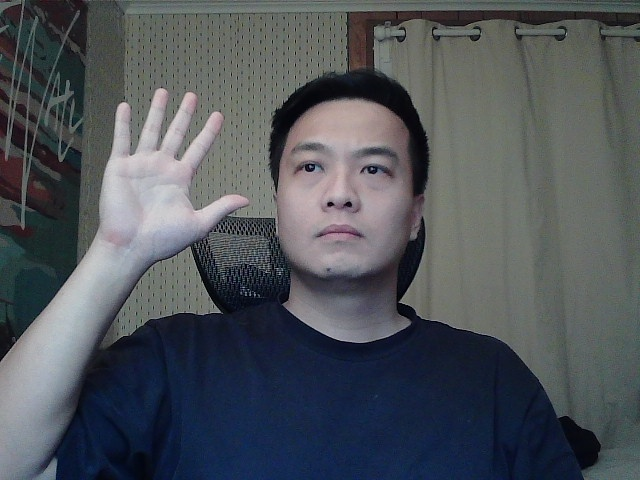Hello: (91, 77, 258, 266)
